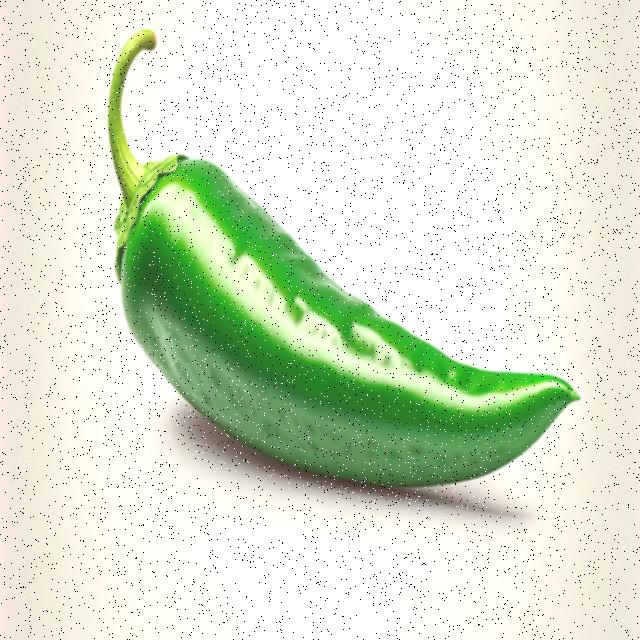Chili Pepper: (70, 42, 596, 526)
